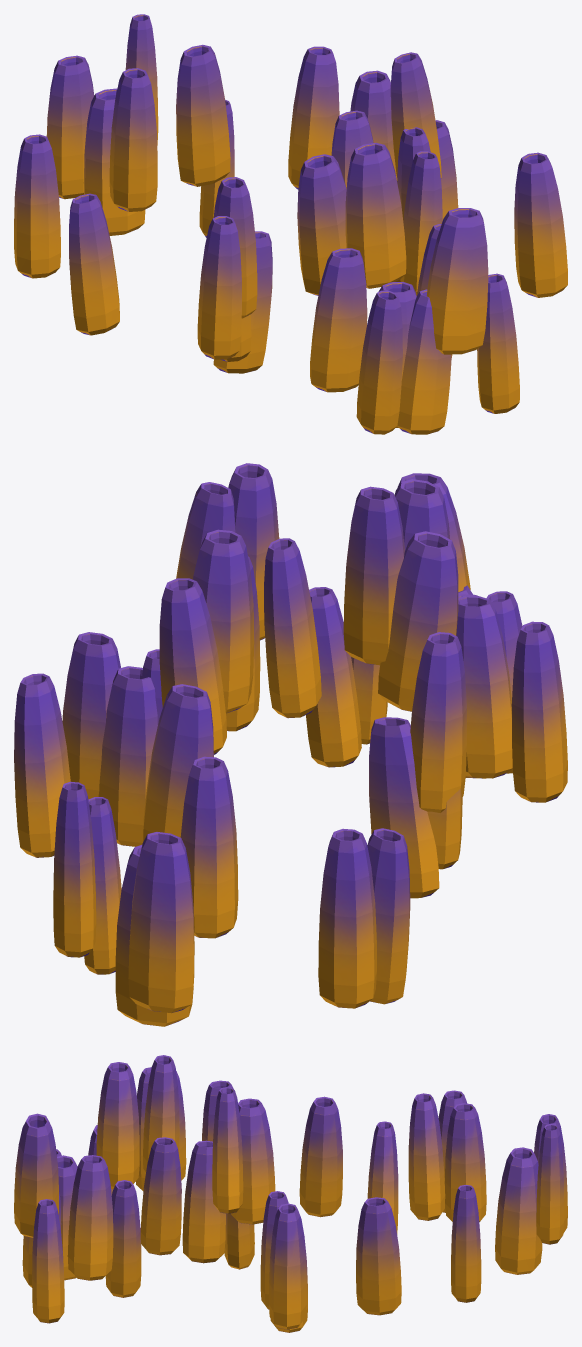
File: purpyellowcoral3.glb
The picture shows the model from 3 angles, top to bottom: view 1: azimuth 30°, elevation 25°; view 2: azimuth 150°, elevation 25°; view 3: azimuth 270°, elevation 25°; orthographic projection. The views are drawn at different scales.
Parts seen in each view (by area): view 1: coral 1.002; view 2: coral 1.002; view 3: coral 1.002.
Boxes of the visible parts, x1,y1,x2,y2 form: coral 1.002: (14,14,567,434); coral 1.002: (14,463,567,1026); coral 1.002: (14,1055,567,1332).
Bounding box in the file's own units: 8.49 × 6.76 × 13.78.
1 material, 1 textured.
